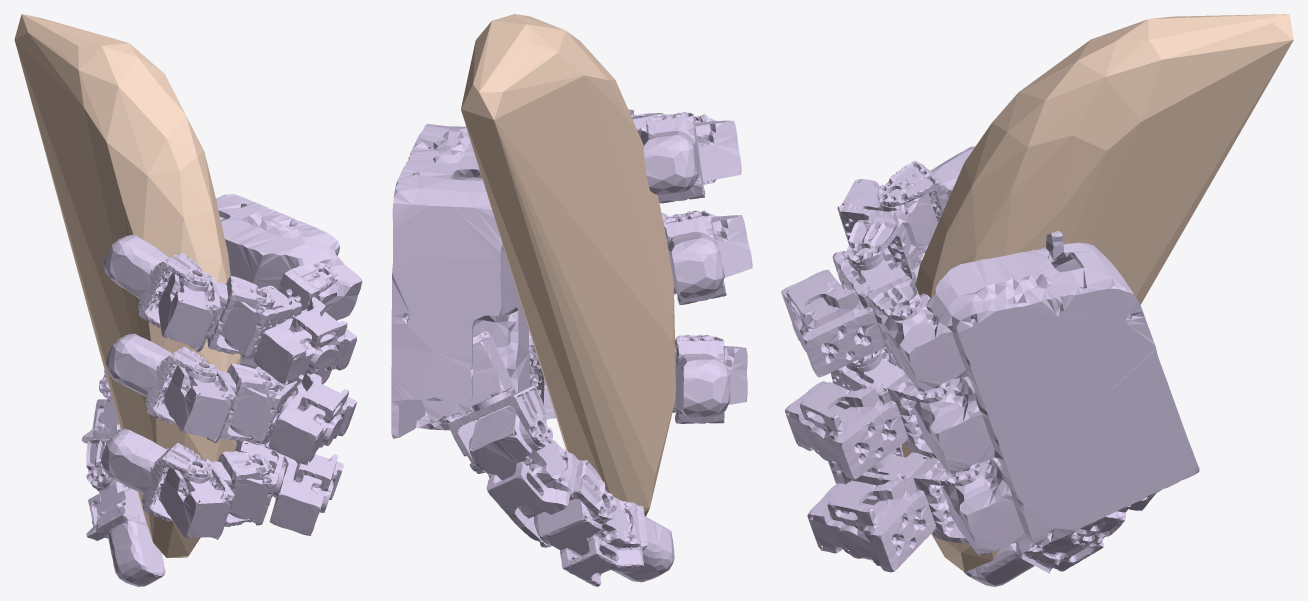
File: 2a8acc5de71720-final.glb
3 renders of one model, left to right at view 1: azimuth 30°, elevation 25°; view 2: azimuth 150°, elevation 25°; view 3: azimuth 270°, elevation 25°, orthographic. The views are drawn at different scales.
Visible parts, largest first — view 1: LEAP_hand, world; view 2: LEAP_hand, world; view 3: LEAP_hand, world.
Boxes of the visible parts, x1,y1,x2,y2 form: LEAP_hand: (81,193,362,586); world: (14,14,240,557); LEAP_hand: (391,109,752,586); world: (461,14,675,516); LEAP_hand: (781,146,1199,586); world: (902,14,1293,572).
Size of the model in its own units: 0.1441 by 0.2777 by 0.2221.
